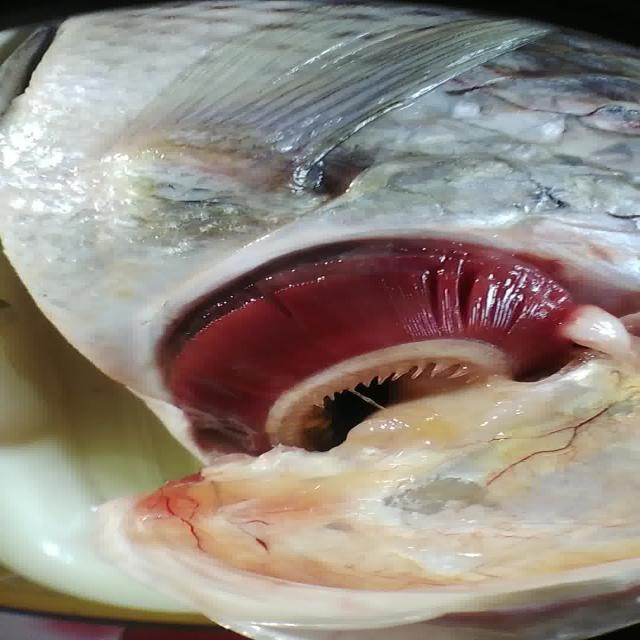Fresh: (156, 239, 632, 407)
